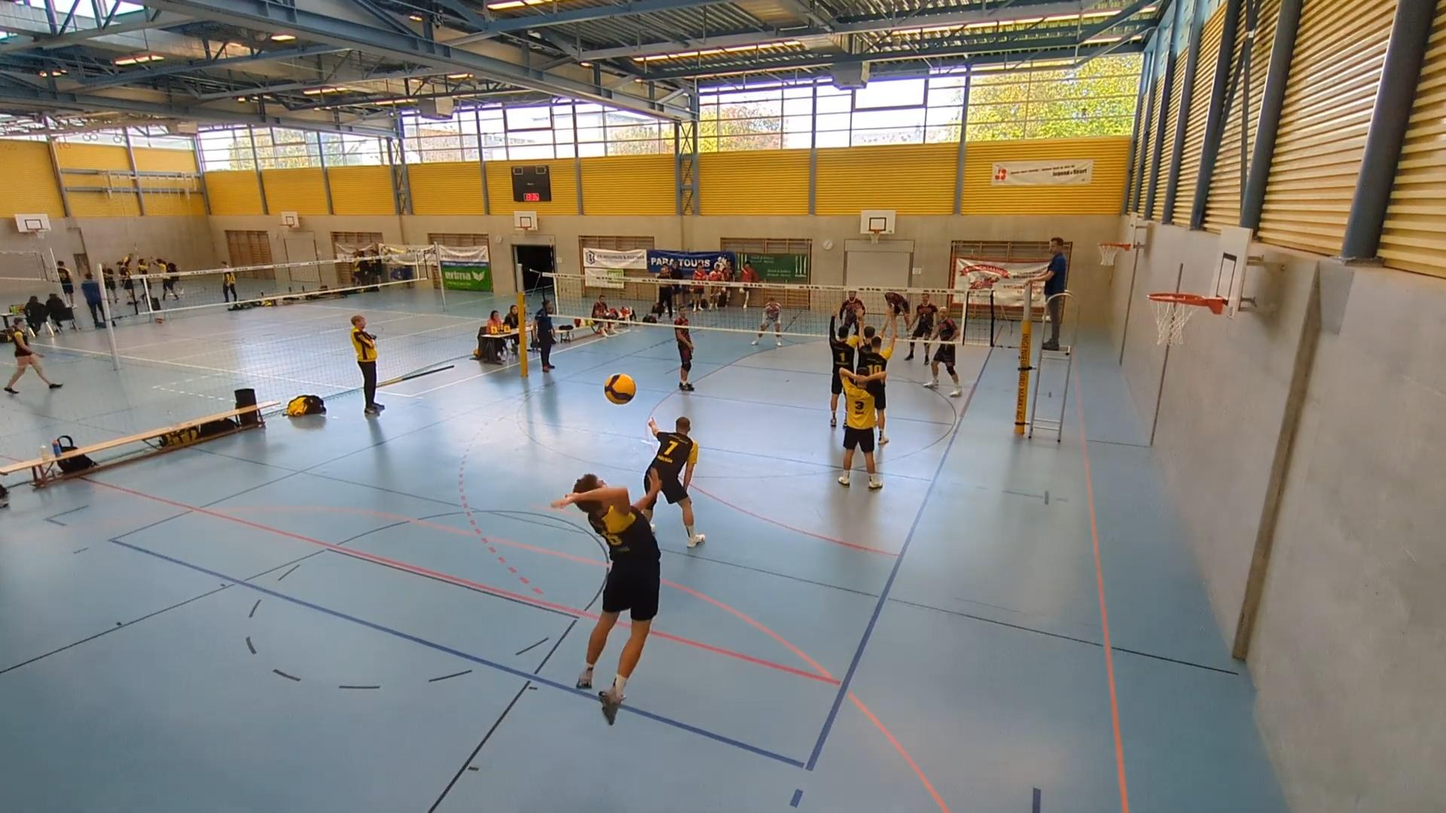Player: (644, 416, 705, 547), (838, 368, 886, 489), (829, 317, 859, 426), (923, 315, 961, 397), (905, 293, 938, 360), (673, 310, 694, 391), (752, 297, 782, 346), (867, 379, 888, 445), (837, 291, 865, 335), (884, 291, 911, 335)
Serve: (546, 471, 670, 722)
ball: (604, 372, 640, 401)
